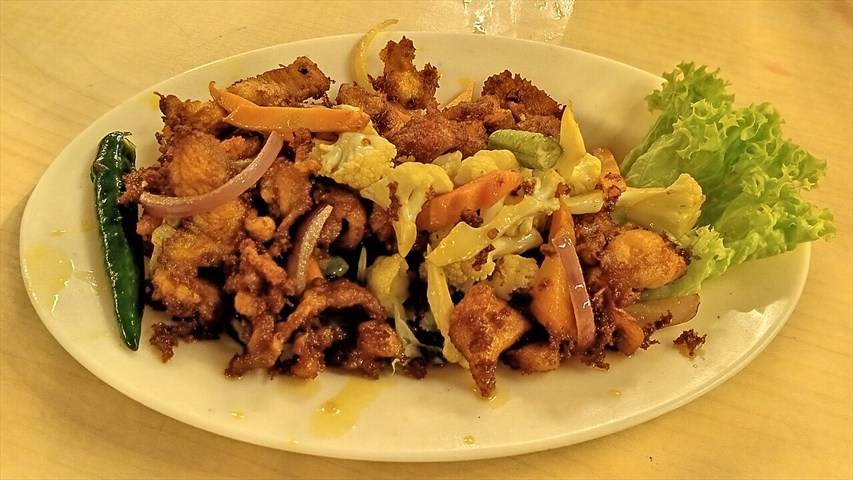Ayam Goreng: (103, 75, 659, 381)
